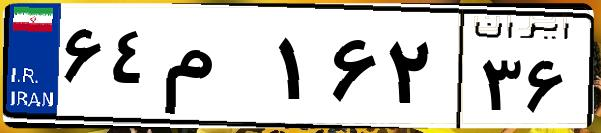1: (270, 28, 330, 110)
2: (385, 28, 445, 110)
3: (475, 38, 525, 113)
4: (110, 28, 158, 98)
6: (330, 28, 385, 110), (57, 26, 110, 100), (525, 38, 570, 115)
م: (158, 20, 270, 120)
